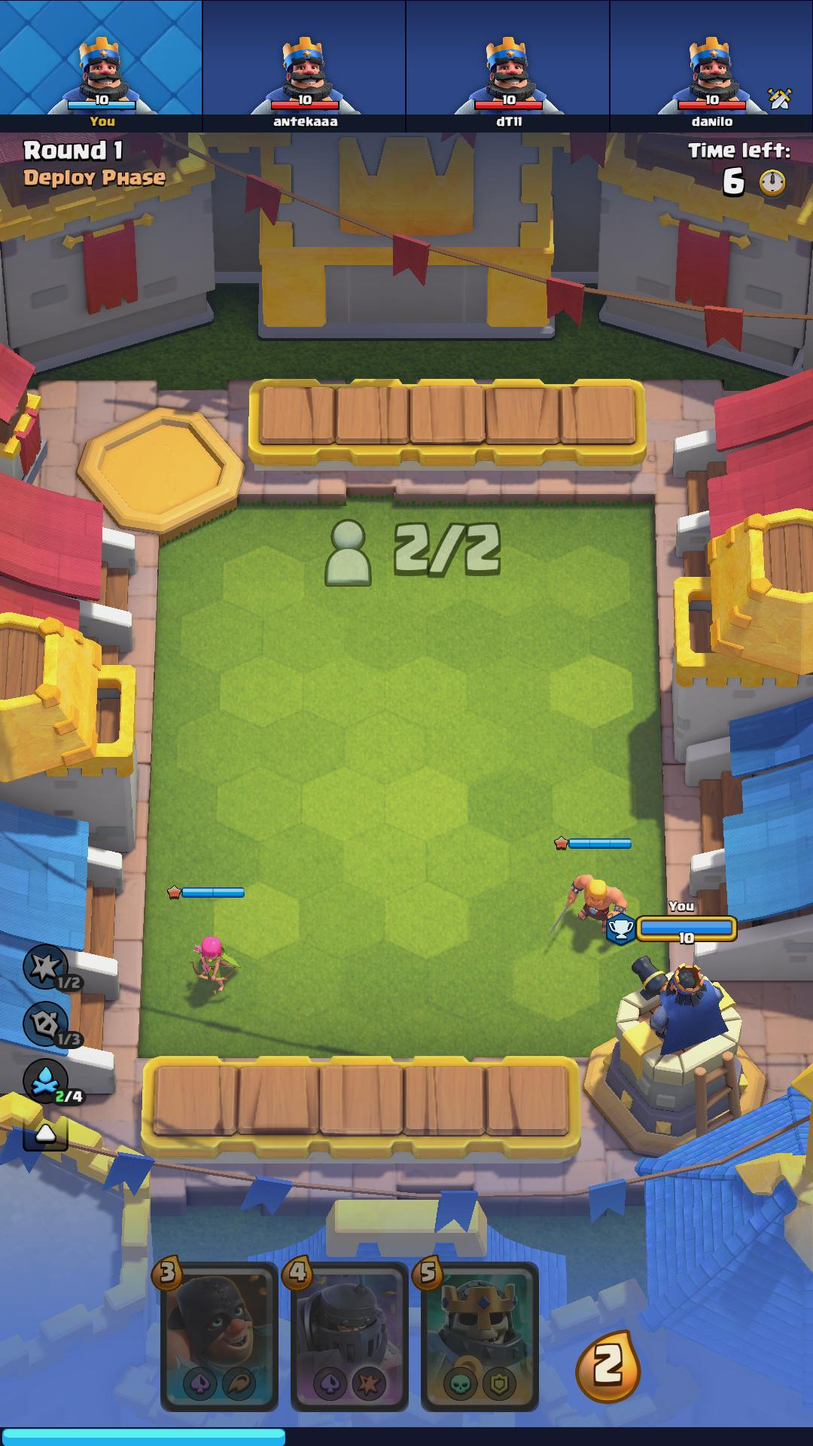archer: (179, 930, 237, 990)
barbarian: (540, 868, 632, 938)
hand-executioner: (163, 1265, 276, 1408)
hand-king: (424, 1264, 536, 1409)
hand-mega: (293, 1264, 407, 1407)
